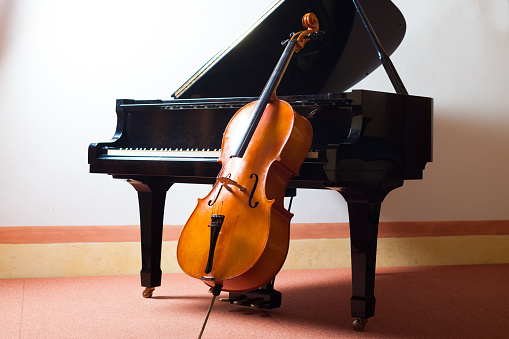Piano: (54, 18, 480, 314)
